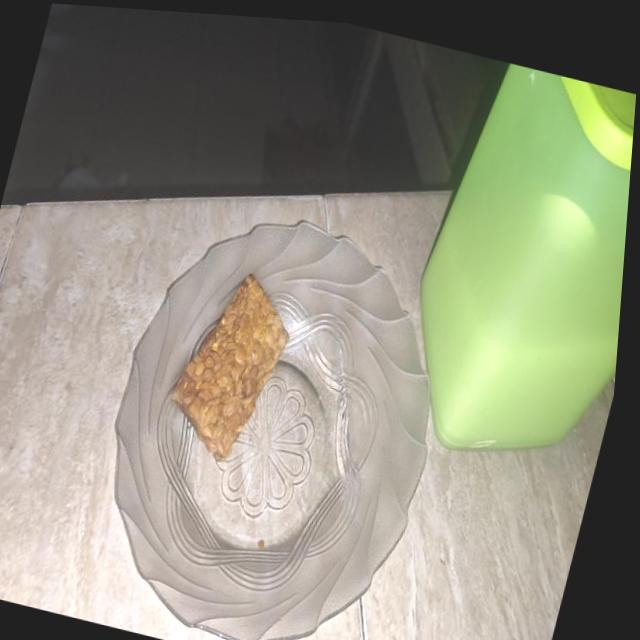tempe_goreng: (172, 273, 288, 462)
